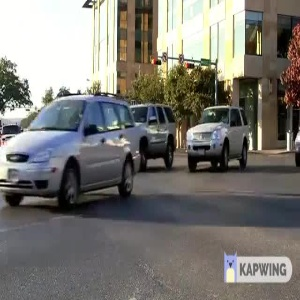car: (1, 93, 146, 204)
suv: (188, 103, 250, 174)
